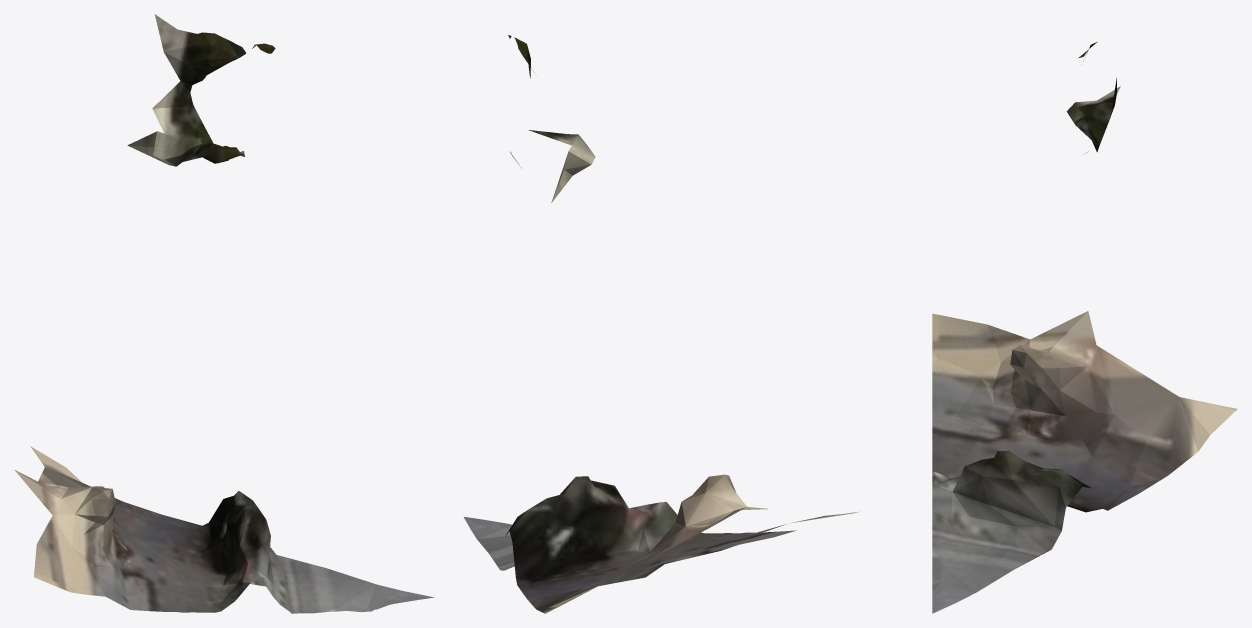
The picture shows the model from 3 angles, left to right: view 1: azimuth 30°, elevation 25°; view 2: azimuth 150°, elevation 25°; view 3: azimuth 270°, elevation 25°; orthographic projection. The views are drawn at different scales.
Size of the model in its own units: 4.3 by 5.58 by 2.97.
Materials: 1 (1 with a texture image).
